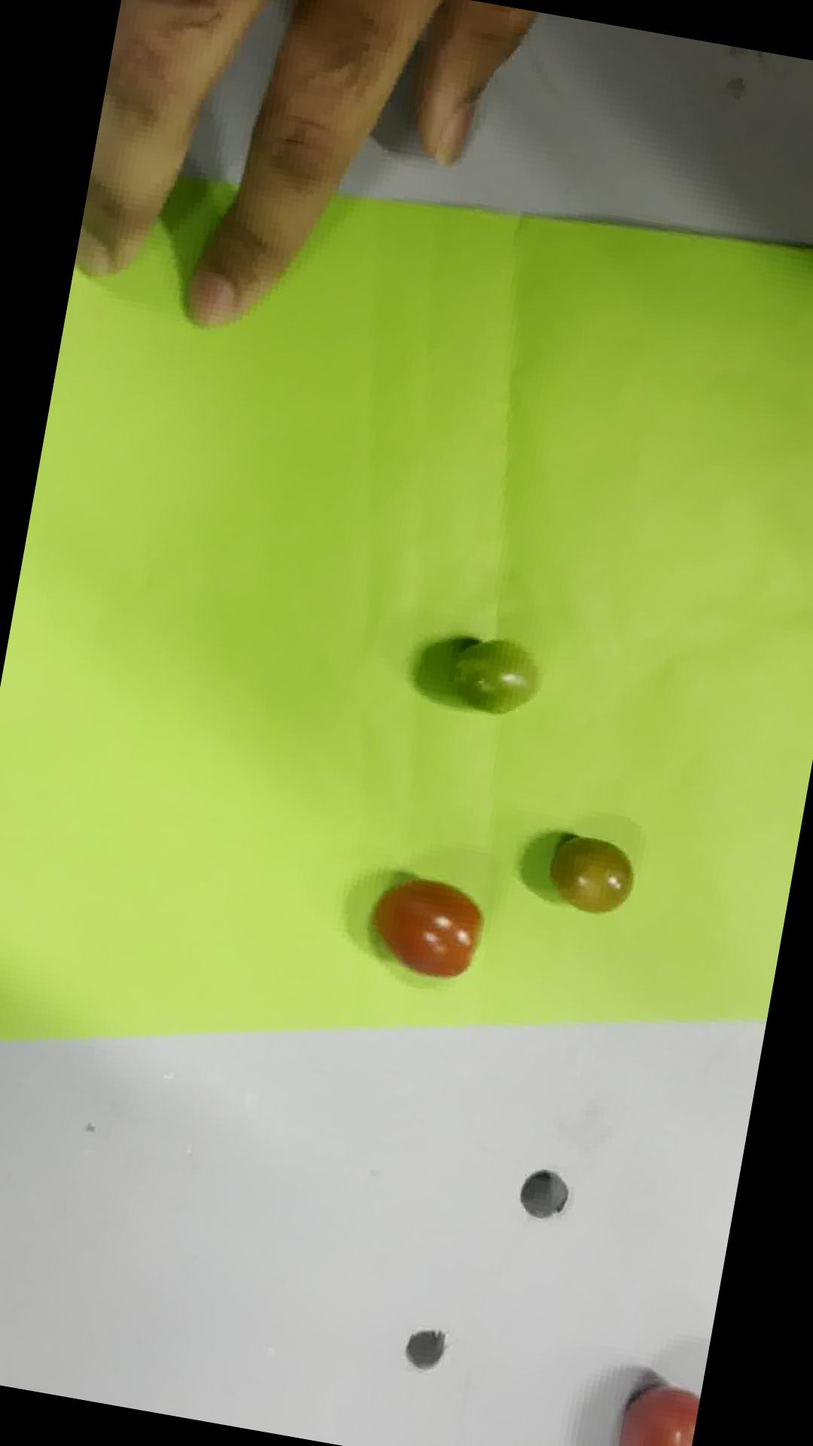green_cherry_tomato: (451, 639, 539, 714)
red_cherry_tomato: (373, 879, 483, 978)
yellow_cherry_tomato: (550, 836, 633, 913)
